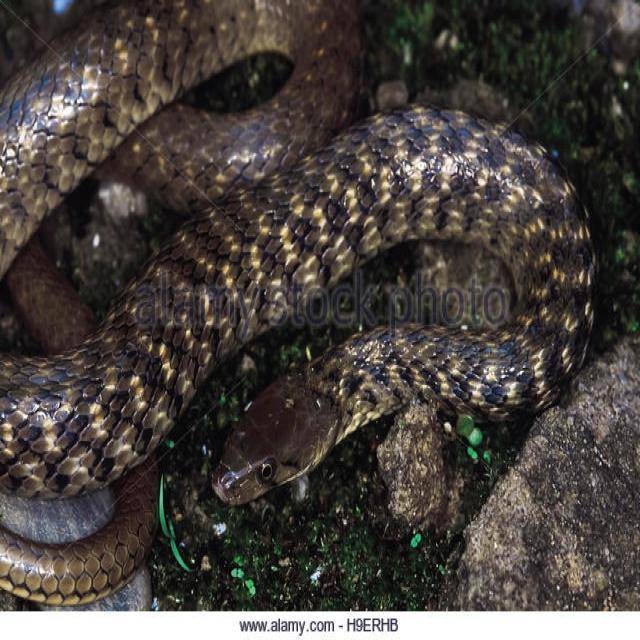Snake: (0, 0, 598, 606)
